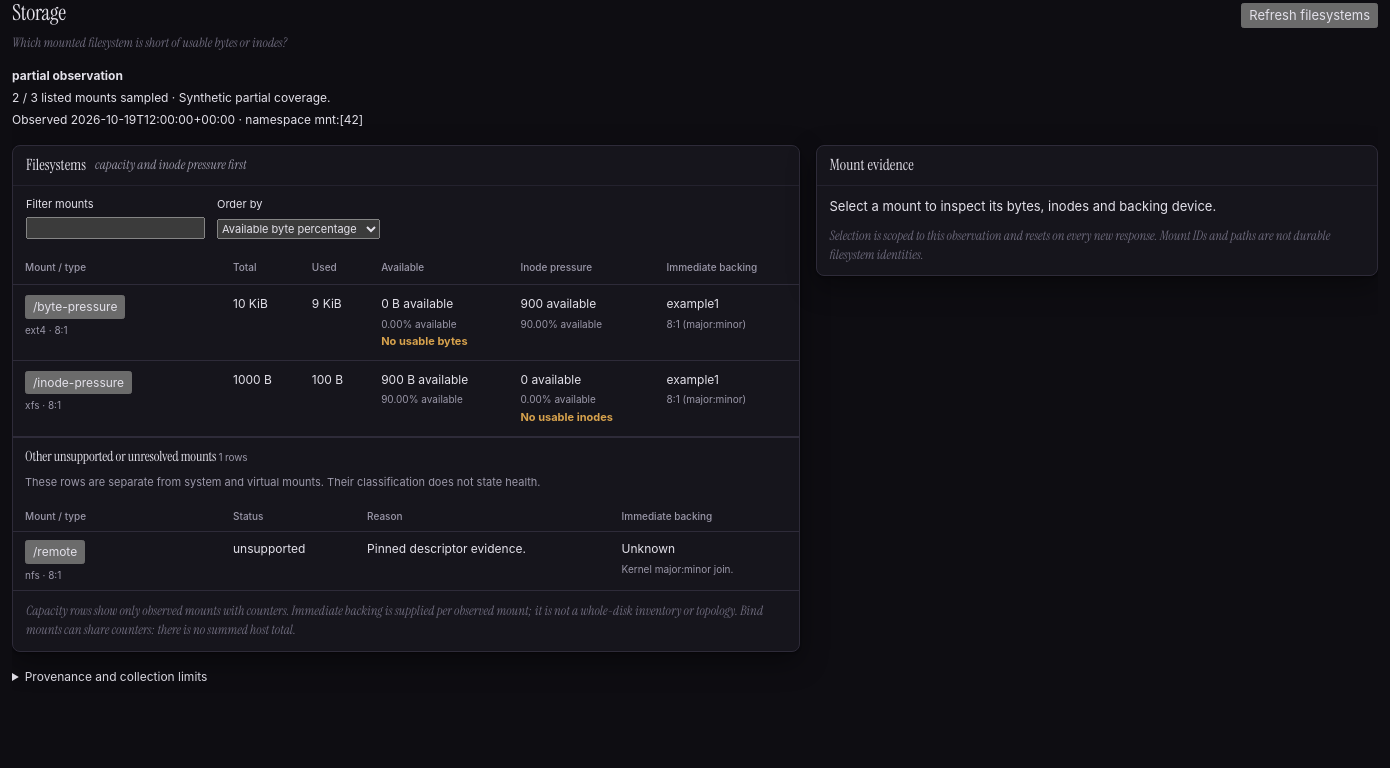
Scenario: separates byte/inode exhaustion, exact reserved evidence, backing and bounds
Expected: the text "No usable bytes" is shown, [381,334,468,348]
Expected: the text "No usable inodes" is shown, [520,410,613,424]
Click the button "/byte-pressure": (75, 307) [25,295,125,319]
(page scrolled)
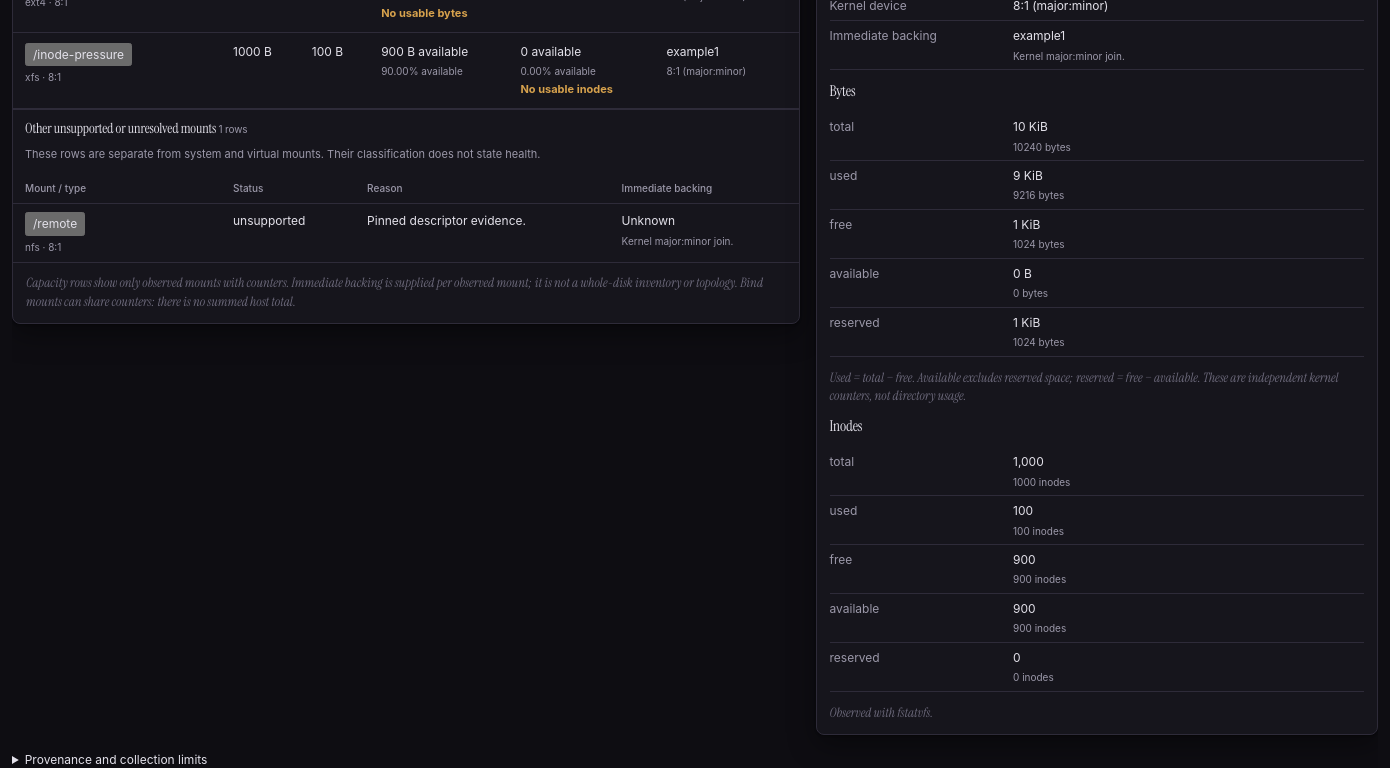
Expected: the text "example1" is shown, [1013,28,1065,43]
Expected: the text "reserved" is shown 2 times, [830,315,880,330]; [830,650,880,665]
Expected: the text "Used = total" is shown, [830,369,1339,404]
Click the heading "Provenance and collection limits": (116, 759) [25,752,207,767]
(page scrolled)
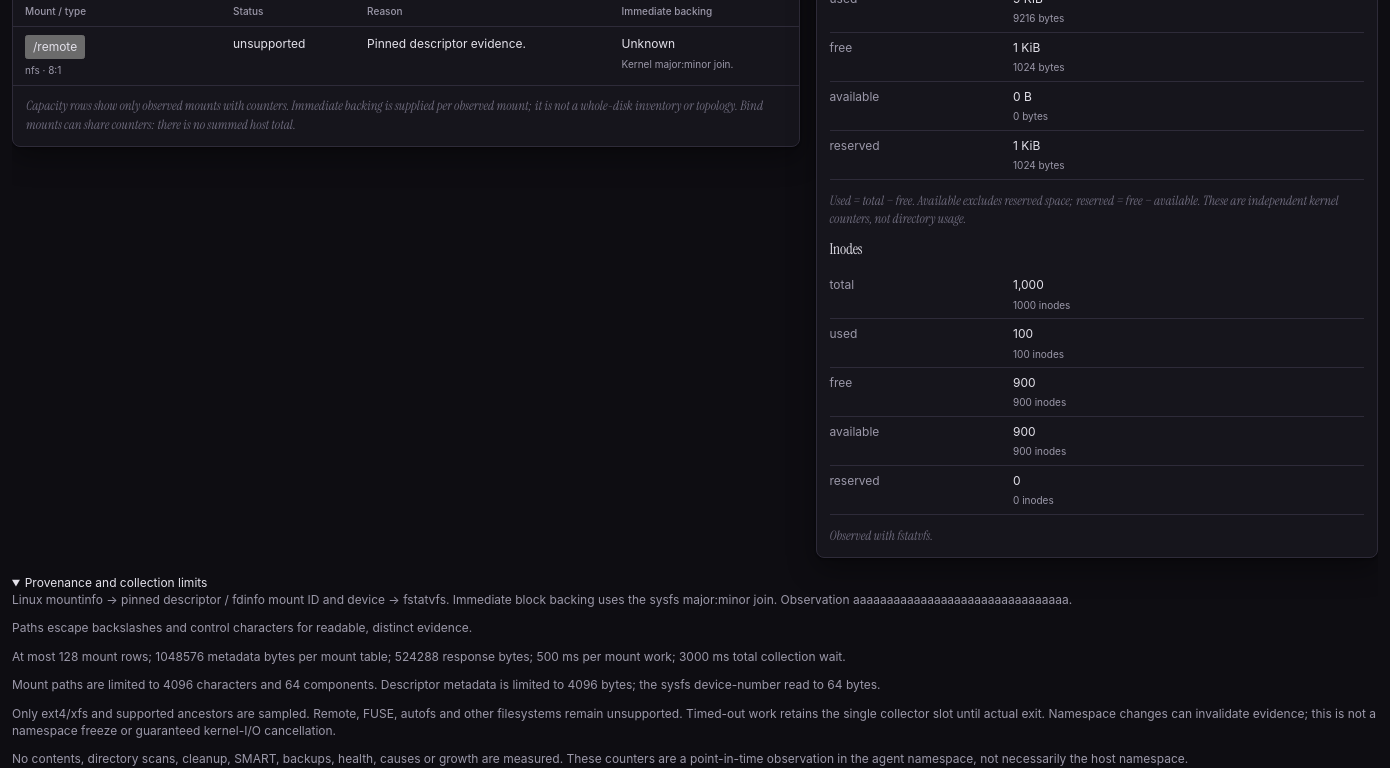
Expected: the text "At most 128 mount rows" shows "500 ms per mount work", [12,649,846,664]
